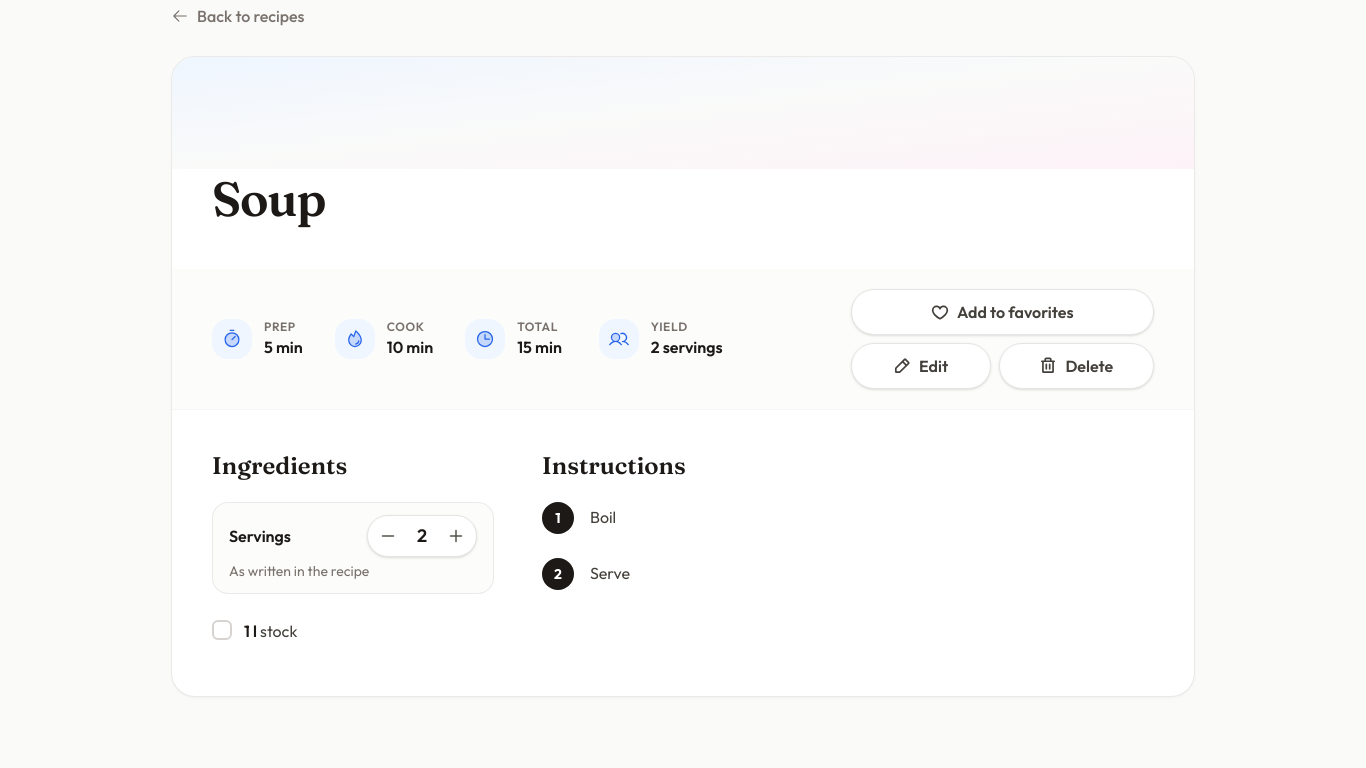
Test: delete confirmation › replaces the actions with a described confirmation and focuses Cancel
Expected: the heading "Soup" is shown, [212,169,325,228]
Click the button "Delete".
click(1076, 366)  # box [998,343,1154,389]
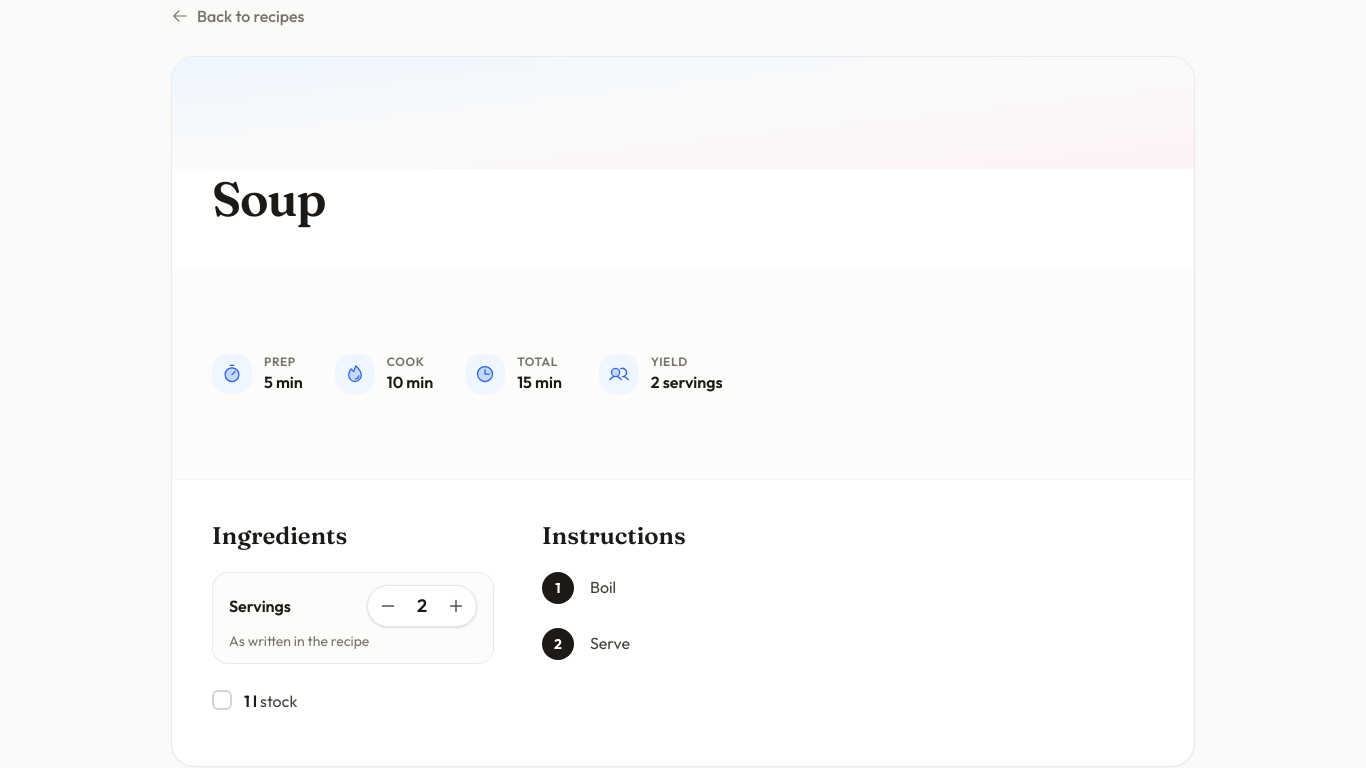
Expected: the link "Edit" is gone
